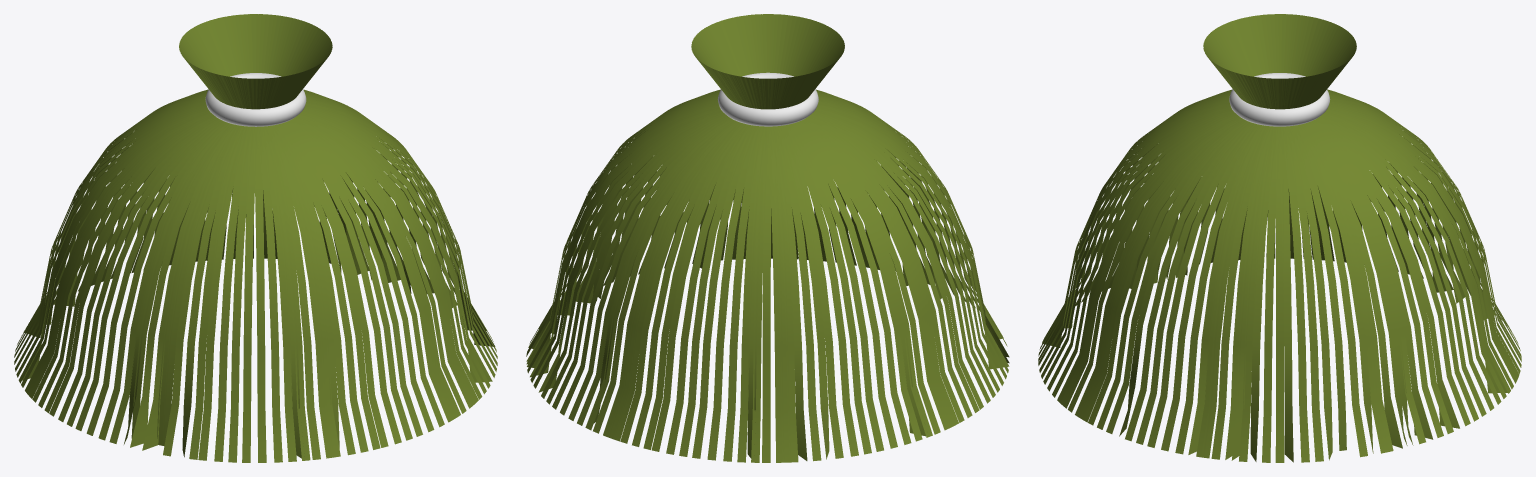
Rendered from grass-divermonlake.fbx.
The picture shows the model from 3 angles, left to right: view 1: azimuth 30°, elevation 25°; view 2: azimuth 150°, elevation 25°; view 3: azimuth 270°, elevation 25°; orthographic projection.
Parts seen in each view (by area): view 1: Plane.020, Plane.075, Plane.116, Plane.043, Plane.052, Plane.035, Plane.107, Plane.004, Plane.084, Plane.036, Plane.094, Plane.091 (+64 smaller); view 2: Plane.048, Plane.039, Plane.088, Plane.112, Plane.016, Plane.040, Plane.079, Plane.072, Plane.047, Plane.056, Plane.104, Plane.080 (+67 smaller); view 3: Plane.045, Plane.077, Plane.093, Plane.109, Plane.050, Plane.033, Plane.018, Plane.114, Plane.054, Plane.118, Plane.061, Plane.002 (+64 smaller).
Part boxes in pixels (bbox=[...]): Plane.020: bbox=[242, 78, 261, 462]; Plane.075: bbox=[228, 78, 257, 462]; Plane.116: bbox=[248, 78, 266, 462]; Plane.043: bbox=[214, 77, 254, 461]; Plane.052: bbox=[253, 78, 282, 462]; Plane.035: bbox=[261, 76, 320, 459]; Plane.107: bbox=[198, 77, 251, 460]; Plane.004: bbox=[189, 76, 249, 459]; Plane.084: bbox=[257, 77, 296, 461]; Plane.036: bbox=[130, 72, 238, 447]; Plane.094: bbox=[270, 73, 368, 452]; Plane.091: bbox=[182, 76, 247, 457]; Plane.048: bbox=[723, 77, 765, 461]; Plane.039: bbox=[758, 78, 776, 462]; Plane.088: bbox=[772, 77, 821, 461]; Plane.112: bbox=[707, 77, 762, 460]; Plane.016: bbox=[692, 76, 760, 458]; Plane.040: bbox=[778, 75, 858, 456]; Plane.079: bbox=[679, 75, 757, 456]; Plane.072: bbox=[781, 74, 871, 454]; Plane.047: bbox=[666, 74, 755, 454]; Plane.056: bbox=[769, 78, 807, 460]; Plane.104: bbox=[776, 76, 843, 458]; Plane.080: bbox=[737, 78, 768, 462]; Plane.045: bbox=[1279, 78, 1309, 462]; Plane.077: bbox=[1282, 77, 1323, 461]; Plane.093: bbox=[1262, 78, 1284, 462]; Plane.109: bbox=[1273, 78, 1293, 462]; Plane.050: bbox=[1290, 75, 1367, 457]; Plane.033: bbox=[1211, 76, 1273, 459]; Plane.018: bbox=[1284, 77, 1332, 460]; Plane.114: bbox=[1287, 76, 1346, 450]; Plane.054: bbox=[1175, 74, 1266, 454]; Plane.118: bbox=[1161, 73, 1263, 451]; Plane.061: bbox=[1250, 78, 1280, 461]; Plane.002: bbox=[1271, 78, 1289, 462].
Size of the model in its own units: 0.1493 by 0.1071 by 0.1493.
